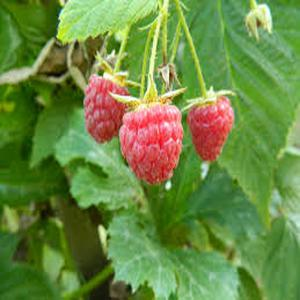raspb: (72, 63, 270, 195)
